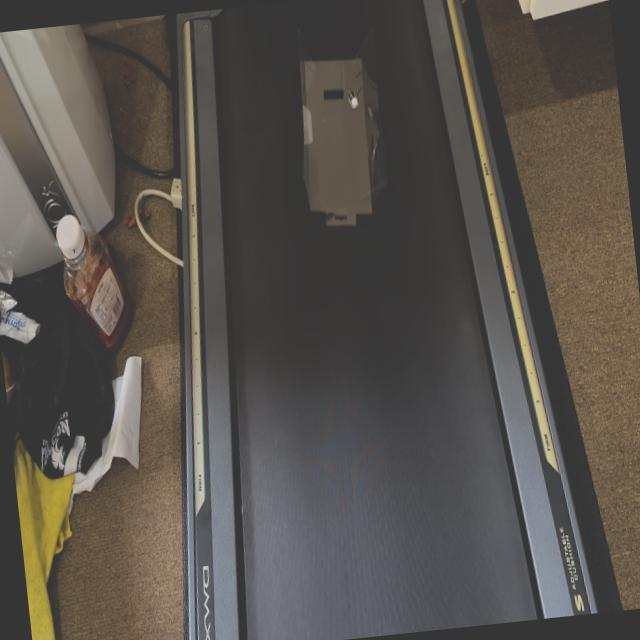Trash: (286, 38, 394, 242)
